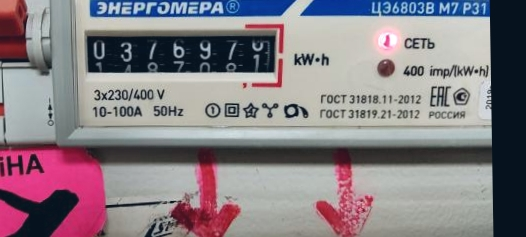0: (92, 37, 106, 59)
1: (250, 52, 262, 72)
3: (119, 40, 134, 62)
6: (171, 35, 186, 58)
7: (144, 36, 159, 60), (225, 37, 239, 60)
9: (197, 36, 212, 60)
screen: (75, 17, 288, 94)
